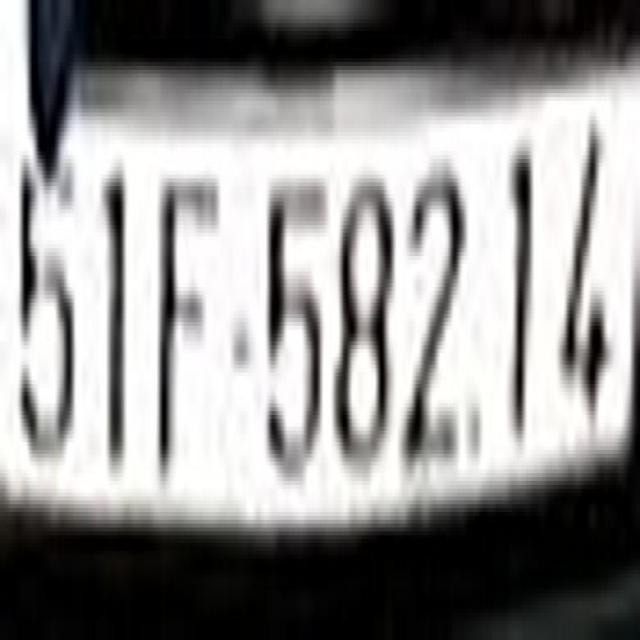1: (499, 116, 547, 454), (91, 124, 135, 489)
2: (398, 97, 464, 477)
4: (557, 93, 614, 454)
5: (262, 124, 330, 489), (15, 124, 80, 473)
8: (332, 109, 393, 488)
F: (153, 128, 219, 481)
